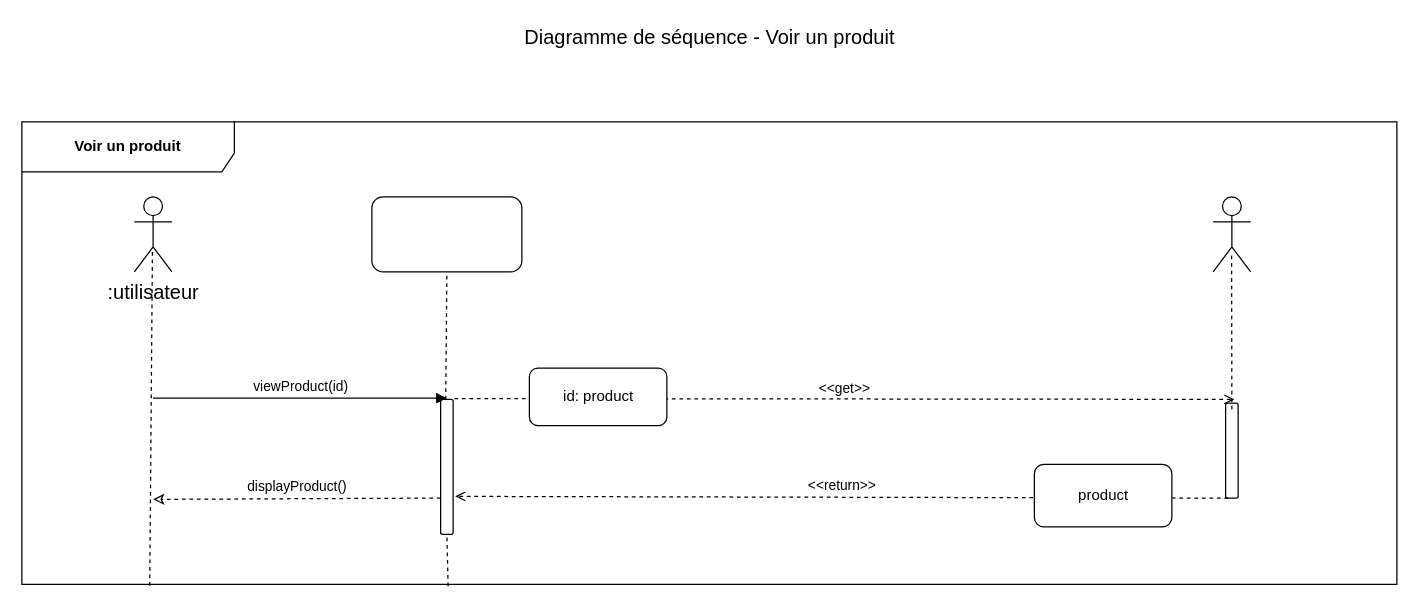
Image size: 1419x609. Some labels were removed from this diagram. Here are the shapes that lost their labels. From the top down, the box of each, then its label:
(371, 196, 522, 272): :system
(1212, 196, 1251, 272): :bdd
